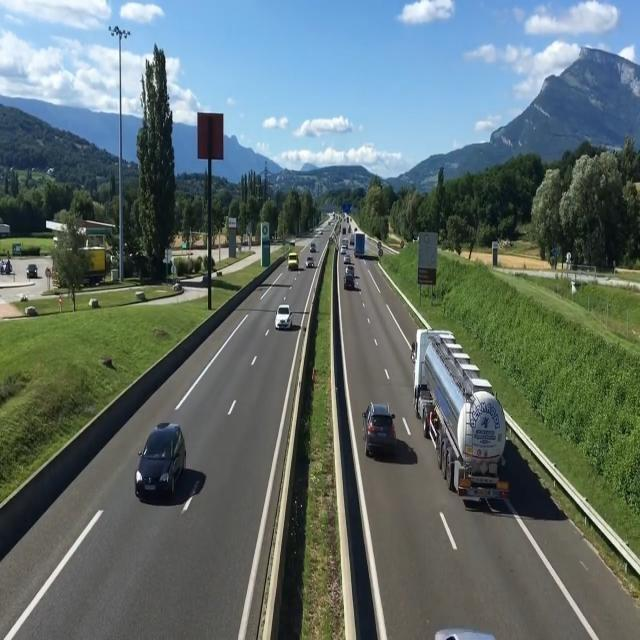Car: (132, 421, 186, 498), (360, 402, 395, 451), (272, 300, 292, 332)
Truck: (410, 321, 508, 497)
